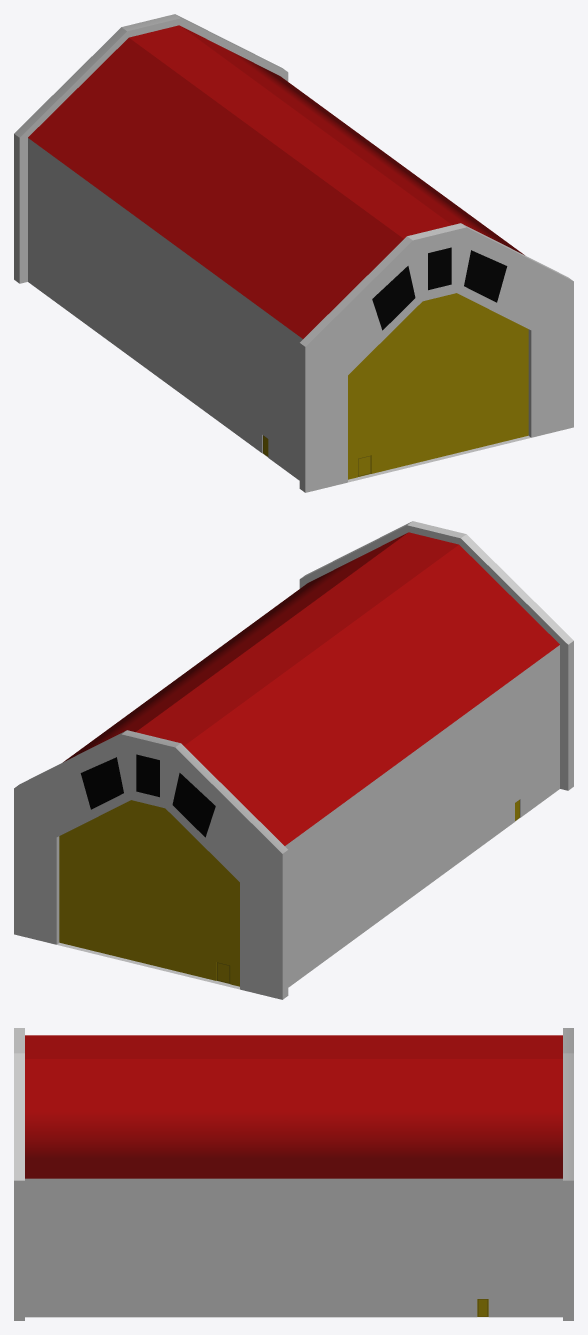
File: Area12_Factory3.fbx
3 renders of one model, top to bottom at view 1: azimuth 30°, elevation 25°; view 2: azimuth 150°, elevation 25°; view 3: azimuth 270°, elevation 25°, orthographic. The views are drawn at different scales.
Visible parts, largest first — view 1: Factory3Body; view 2: Factory3Body; view 3: Factory3Body.
Part boxes in pixels (x1,y1,x2,y2): Factory3Body: [14, 14, 573, 492]; Factory3Body: [14, 521, 573, 999]; Factory3Body: [14, 1028, 573, 1320].
Size of the model in its own units: 37.24 by 70 by 29.98.
